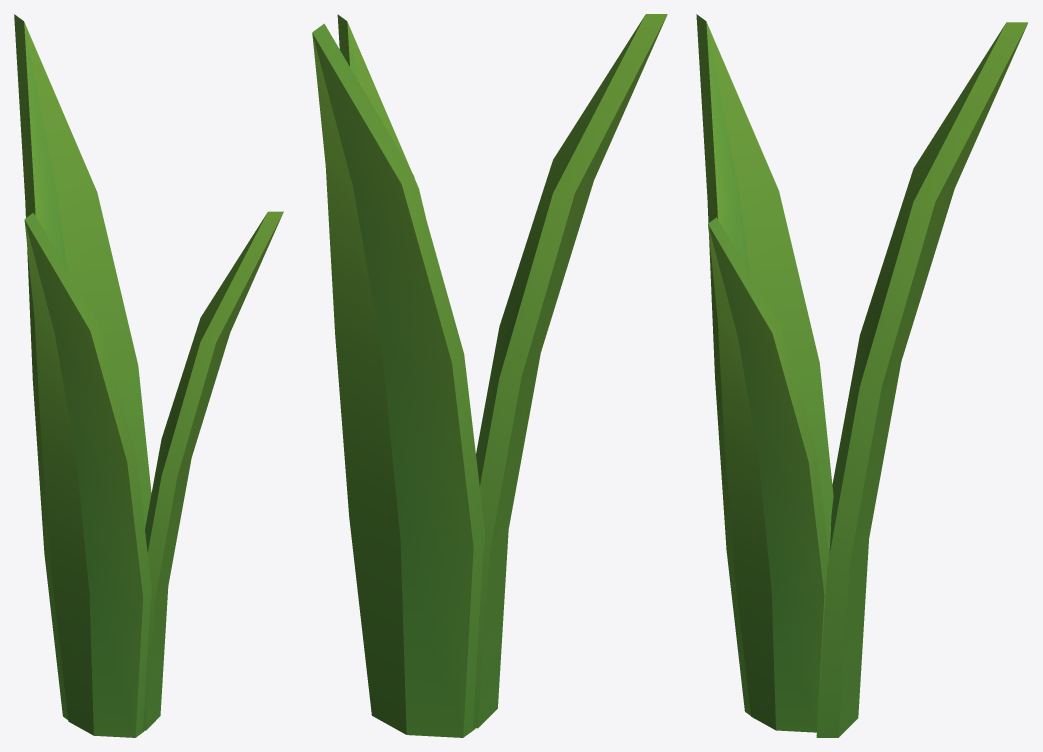
Rendered from Grass_2_B_Color1.glb.
3 views of the same model, side by side, from view 1: azimuth 30°, elevation 25°; view 2: azimuth 150°, elevation 25°; view 3: azimuth 270°, elevation 25° (orthographic). The views are drawn at different scales.
Parts seen in each view (by area): view 1: Grass_2_B_Color1; view 2: Grass_2_B_Color1; view 3: Grass_2_B_Color1.
Part boxes in pixels (bbox=[...]): Grass_2_B_Color1: bbox=[14, 14, 283, 737]; Grass_2_B_Color1: bbox=[312, 14, 667, 737]; Grass_2_B_Color1: bbox=[696, 14, 1028, 737].
Size of the model in its own units: 0.4035 by 0.9188 by 0.3974.
Materials: 1 (1 with a texture image).
